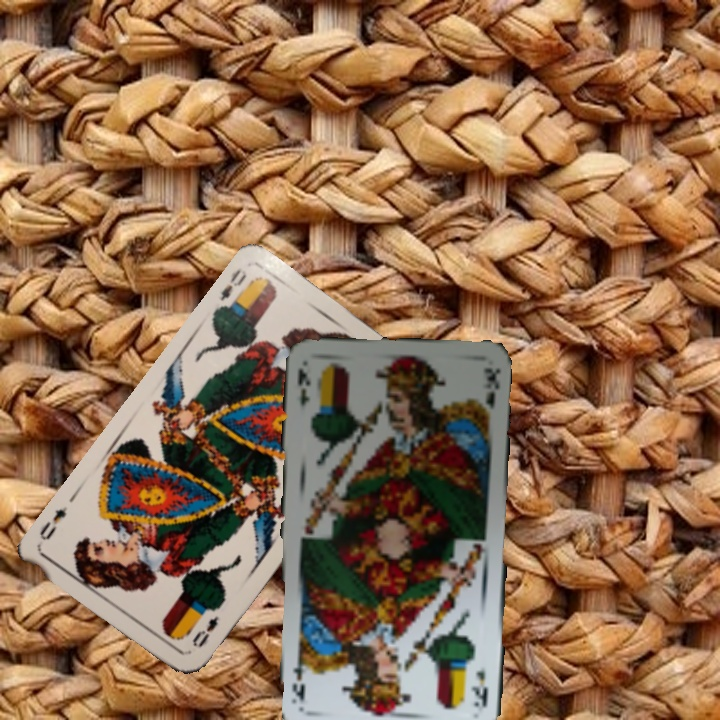EK: (468, 667, 490, 710), (293, 364, 313, 409)
EO: (215, 265, 249, 304), (188, 612, 221, 651)
